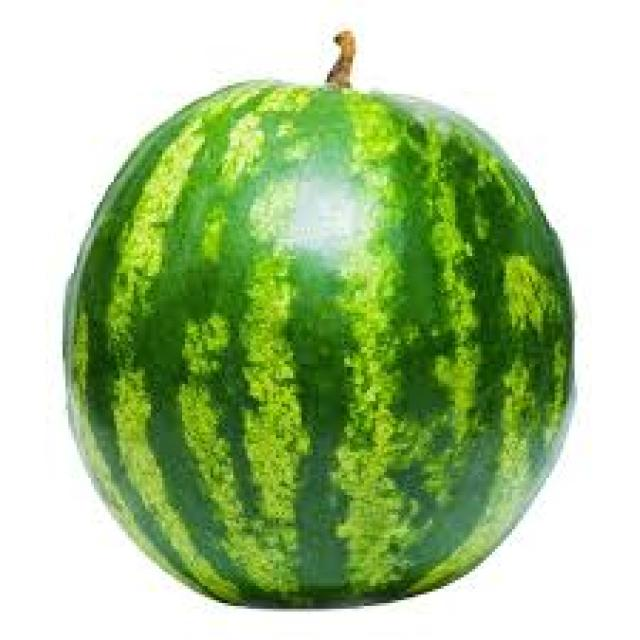Watermelon: (64, 76, 580, 609)
